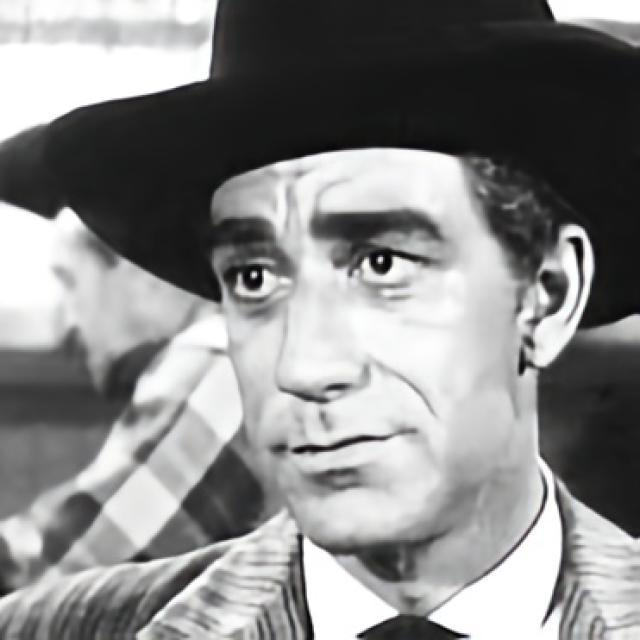neutral: (206, 145, 518, 551)
